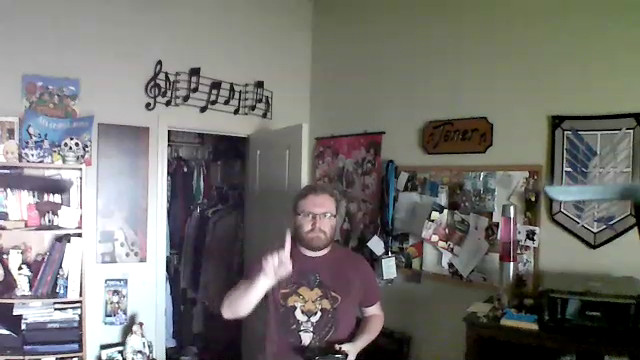up: (258, 227, 295, 284)
